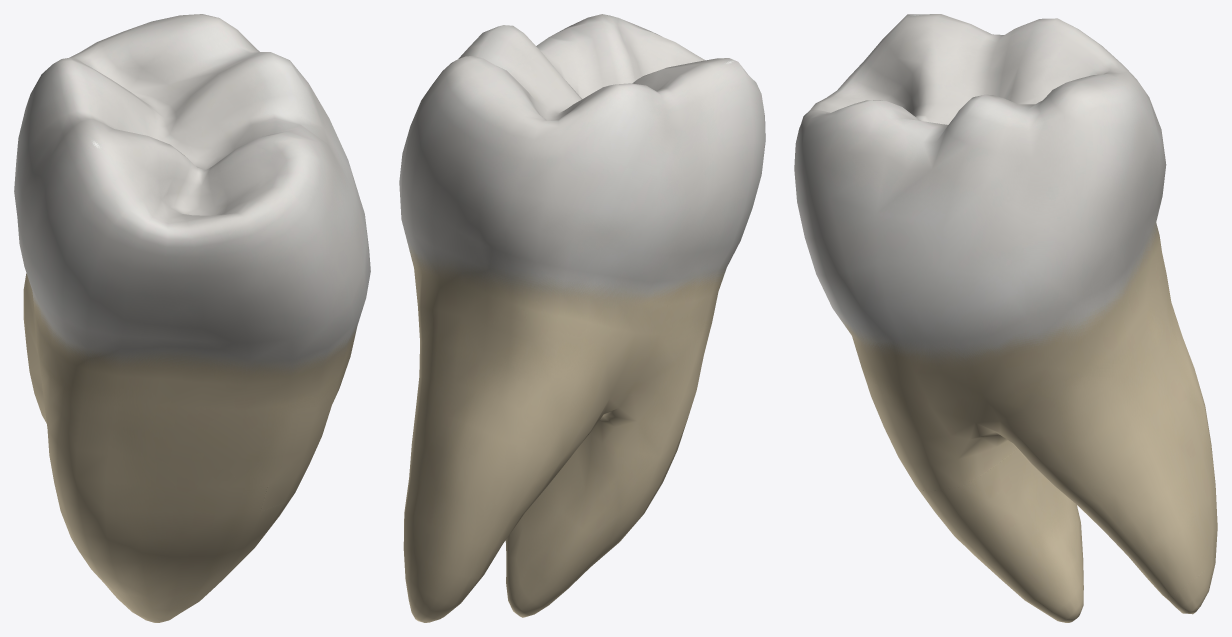
Rendered from tooth-36.glb.
3 renders of one model, left to right at view 1: azimuth 30°, elevation 25°; view 2: azimuth 150°, elevation 25°; view 3: azimuth 270°, elevation 25°, orthographic. The views are drawn at different scales.
Visible parts, largest first — view 1: LL6seam_2:ZBrushPolyMesh3D_Mandible_blinn10_0; view 2: LL6seam_2:ZBrushPolyMesh3D_Mandible_blinn10_0; view 3: LL6seam_2:ZBrushPolyMesh3D_Mandible_blinn10_0.
Boxes of the visible parts, x1,y1,x2,y2 form: LL6seam_2:ZBrushPolyMesh3D_Mandible_blinn10_0: (14, 14, 370, 622); LL6seam_2:ZBrushPolyMesh3D_Mandible_blinn10_0: (399, 14, 765, 622); LL6seam_2:ZBrushPolyMesh3D_Mandible_blinn10_0: (794, 14, 1217, 622).
Bounding box in the file's own units: 0.3897 × 0.6709 × 0.462.
Materials: 1 (1 with a texture image).
